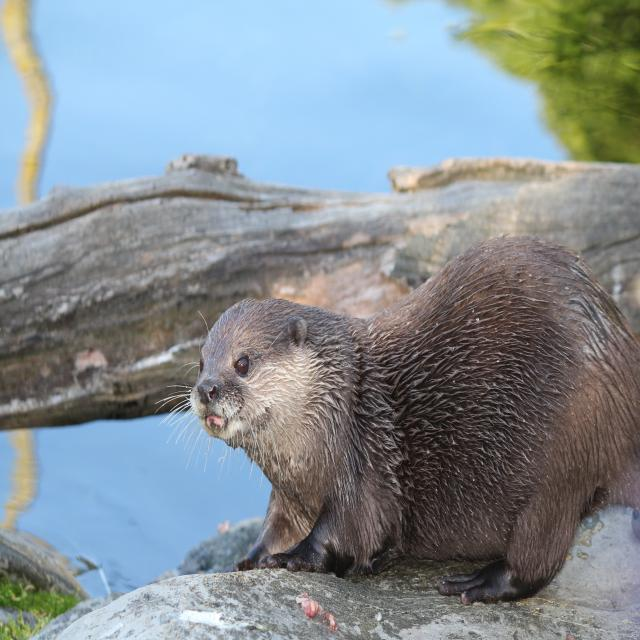otter: (197, 240, 640, 601)
